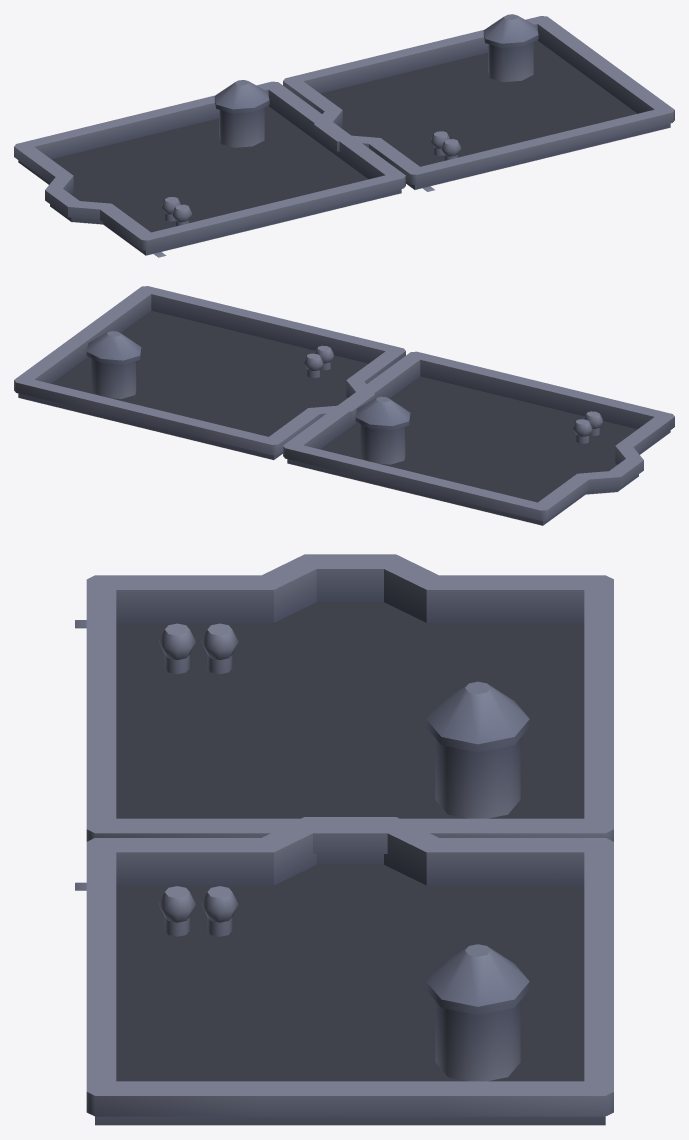
File: commercial-l.glb
3 views of the same model, one above another, from view 1: azimuth 30°, elevation 25°; view 2: azimuth 150°, elevation 25°; view 3: azimuth 270°, elevation 25° (orthographic). The views are drawn at different scales.
Parts seen in each view (by area): view 1: building-l; view 2: building-l; view 3: building-l.
Boxes of the visible parts, box(x1,y1,x2,y2) form: building-l: box(14, 14, 674, 257); building-l: box(14, 286, 674, 525); building-l: box(75, 554, 613, 1125).
Bounding box in the file's own units: 35.16 × 3.41 × 14.8.
Materials: 1 (1 with a texture image).
